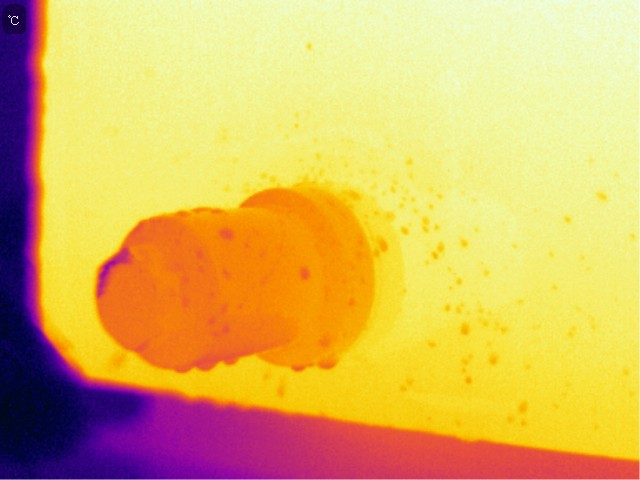Water: (288, 356, 342, 374), (357, 229, 389, 257), (203, 316, 240, 338), (175, 202, 229, 217), (196, 358, 219, 380), (428, 239, 449, 260), (417, 215, 439, 235), (172, 357, 191, 377), (485, 350, 505, 369), (226, 353, 243, 373), (456, 236, 471, 254), (518, 401, 530, 422), (218, 226, 234, 241), (297, 265, 314, 279), (458, 318, 469, 337), (277, 384, 287, 398)
